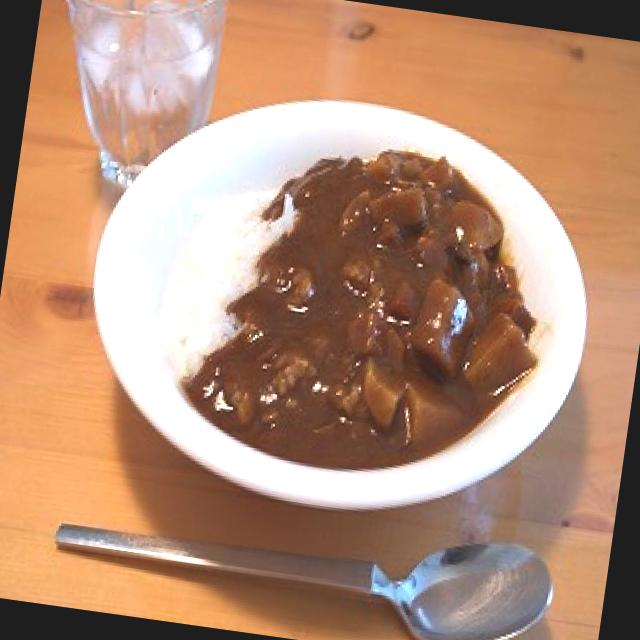Beef Curry: (148, 110, 554, 486)
